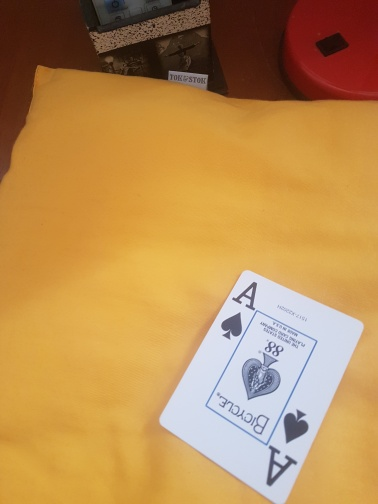ace: (160, 271, 366, 504)
